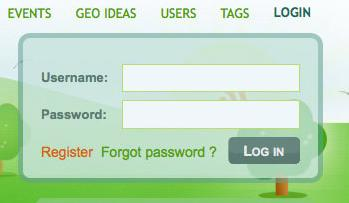button: (228, 136, 300, 164)
field: (121, 63, 301, 93), (121, 100, 301, 130)
field_with_label: (42, 61, 303, 94), (41, 99, 303, 131)
